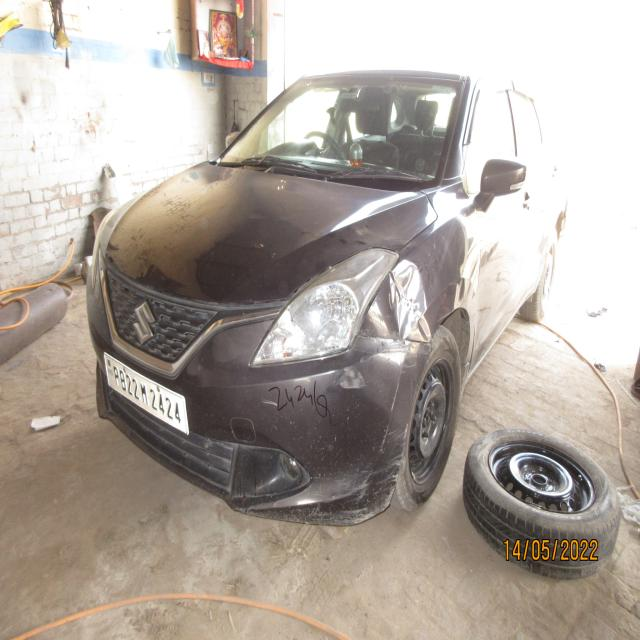damage: (361, 249, 440, 336), (361, 417, 410, 521), (449, 234, 485, 317), (354, 335, 433, 365), (330, 360, 375, 398)
